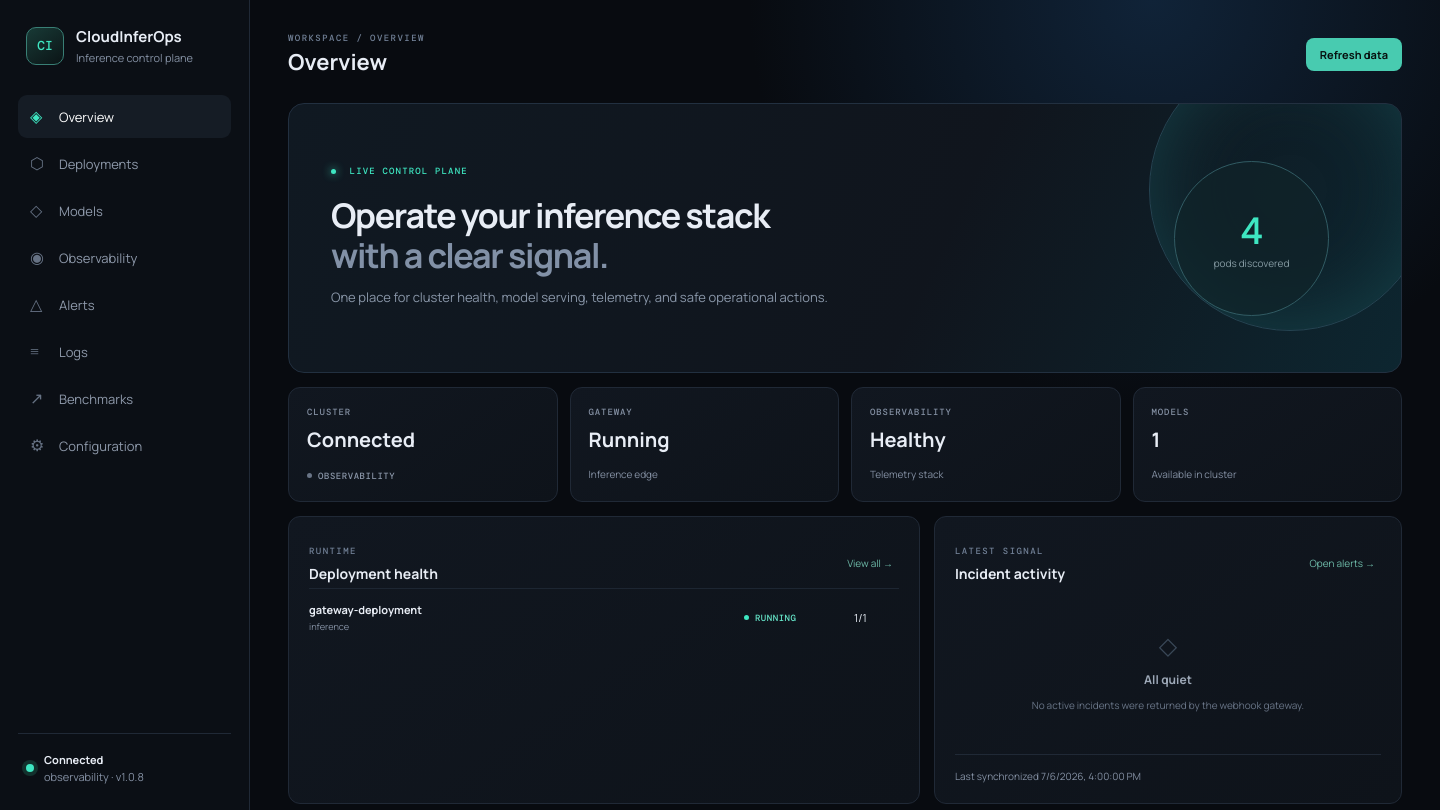
Test case: CloudInferOps portal › clearly communicates read-only action mode
Click the button "⬡ Deployments" at x=124, y=164, box [18, 142, 231, 185]
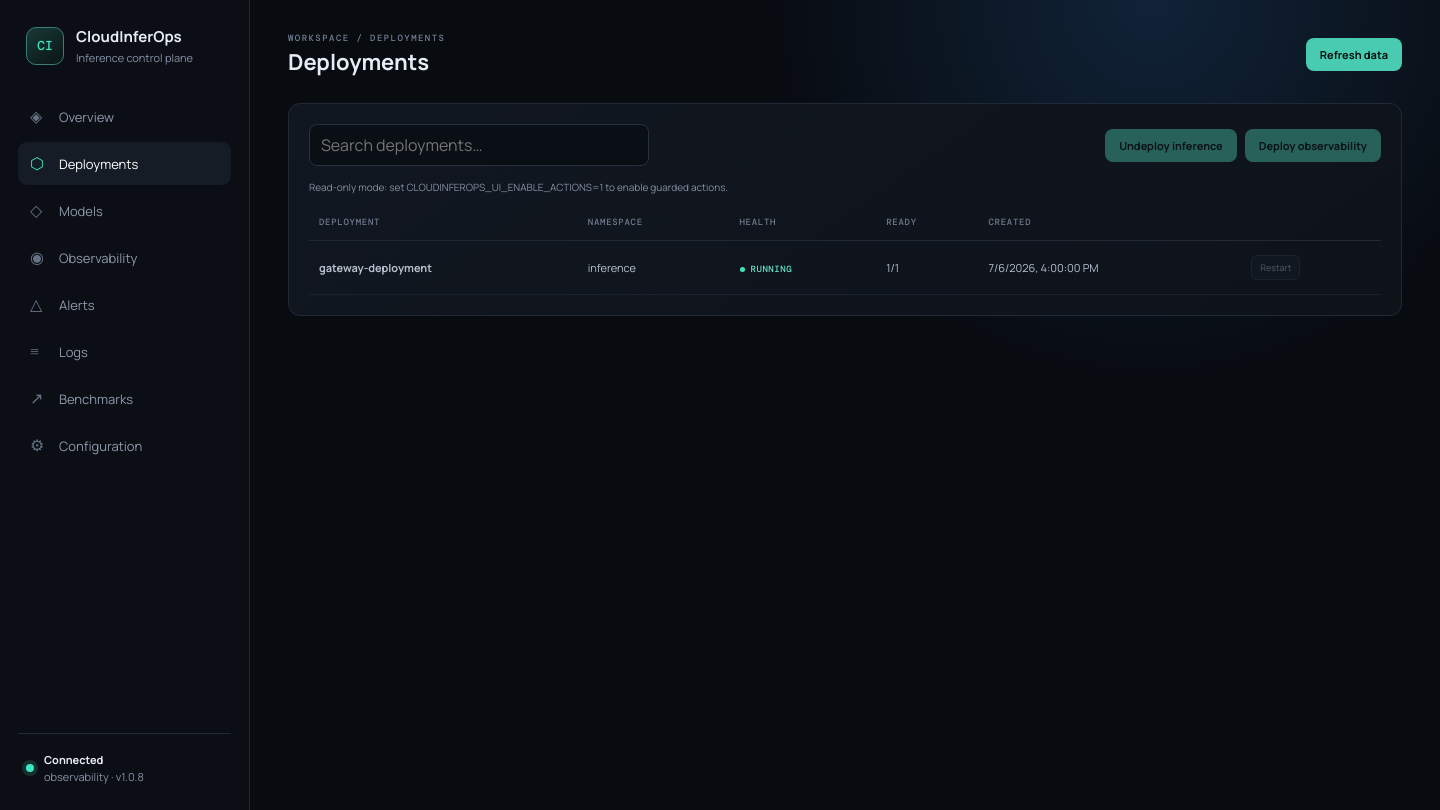
Result: the text "Read-only mode" is shown at [309, 180, 728, 194]
Result: the button "Undeploy inference" is disabled at [1105, 128, 1237, 162]
